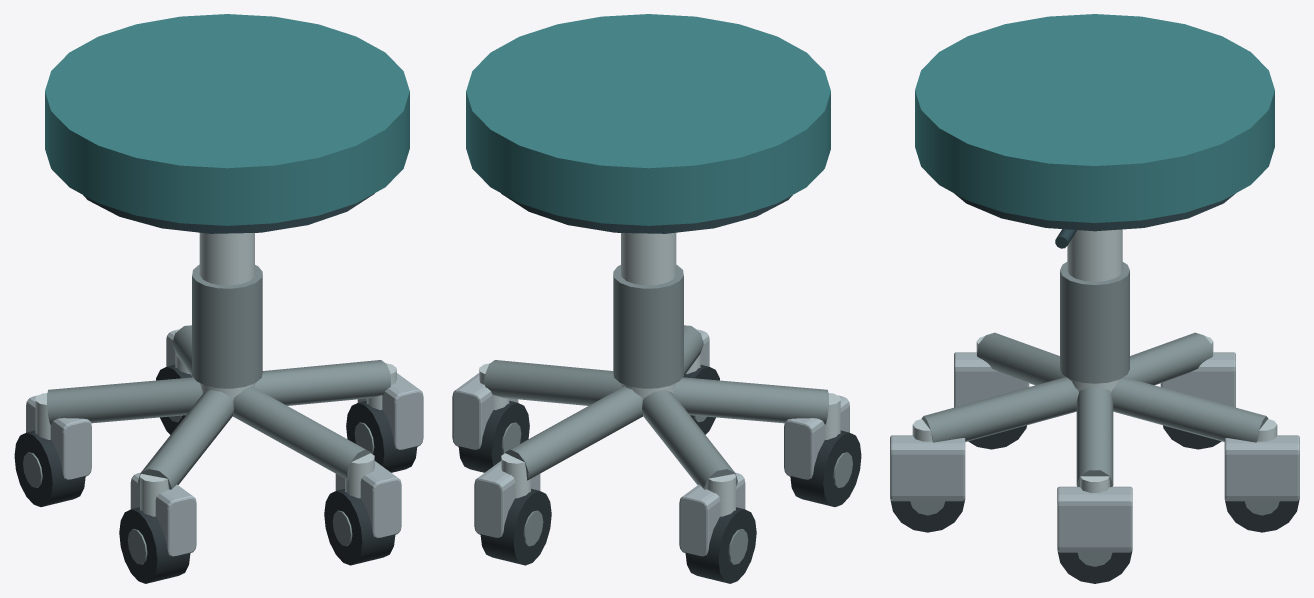
Rendered from stool.glb.
3 views of the same model, side by side, from view 1: azimuth 30°, elevation 25°; view 2: azimuth 150°, elevation 25°; view 3: azimuth 270°, elevation 25° (orthographic).
Visible parts, largest first — view 1: stool, stool-batch (×5); view 2: stool, stool-batch (×5); view 3: stool, stool-batch (×5).
Part boxes in pixels (x1=…): stool: x1=45, y1=14, x2=409, y2=225; stool-batch (×5): x1=14, y1=193, x2=423, y2=583; stool: x1=466, y1=14, x2=830, y2=225; stool-batch (×5): x1=452, y1=193, x2=861, y2=583; stool: x1=915, y1=14, x2=1274, y2=222; stool-batch (×5): x1=890, y1=193, x2=1299, y2=583.
Size of the model in its own units: 0.457 by 0.5425 by 0.4894.
